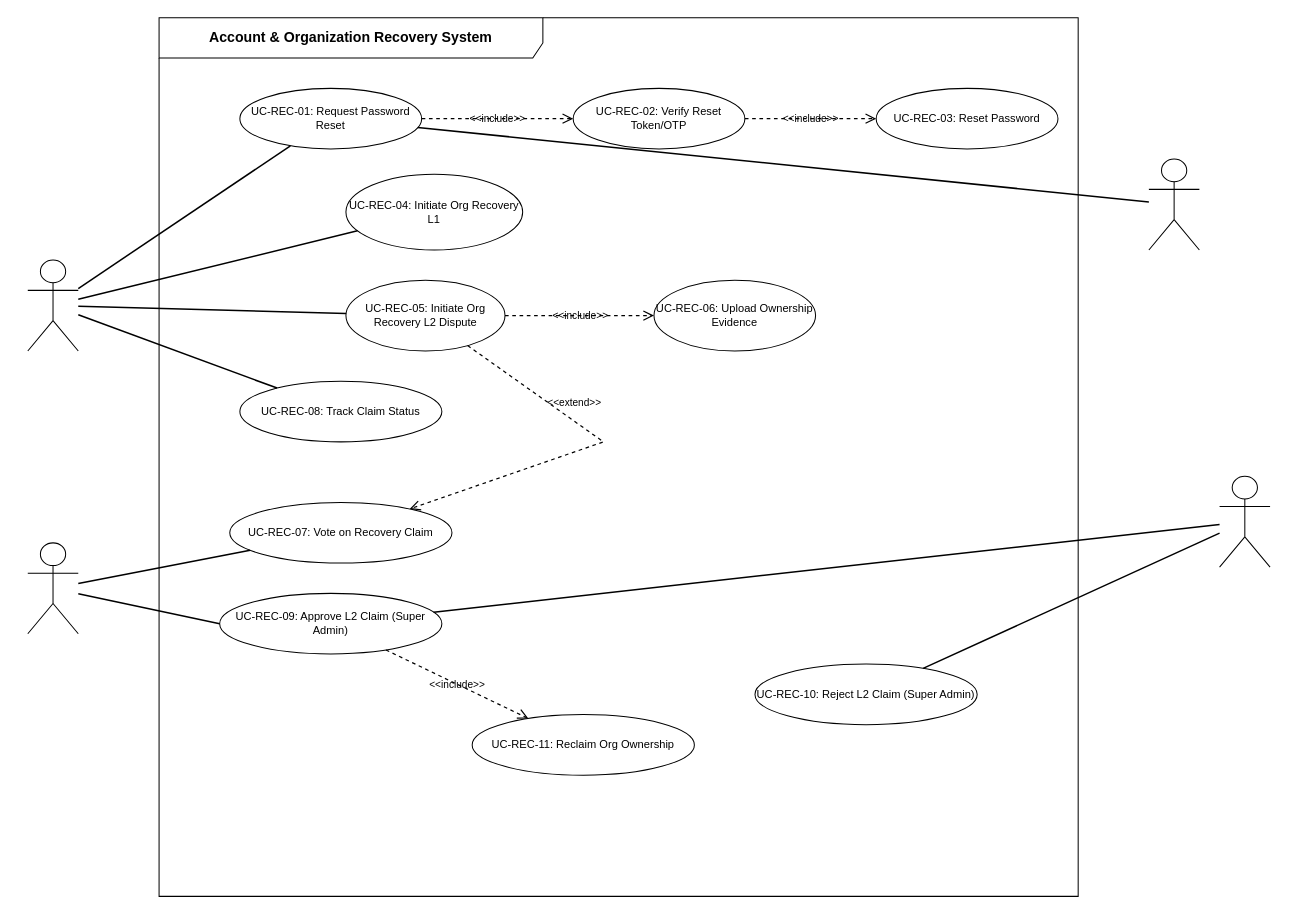
This 1300x914 diagram has some shape labels left out. The box of each missing label's shape, as (x1, y1, x2, y2) in pixels:
Email Service: (1148, 158, 1199, 250)
Guest / User: (27, 259, 78, 351)
Org Member: (27, 542, 78, 634)
Super Admin: (1219, 475, 1270, 567)
